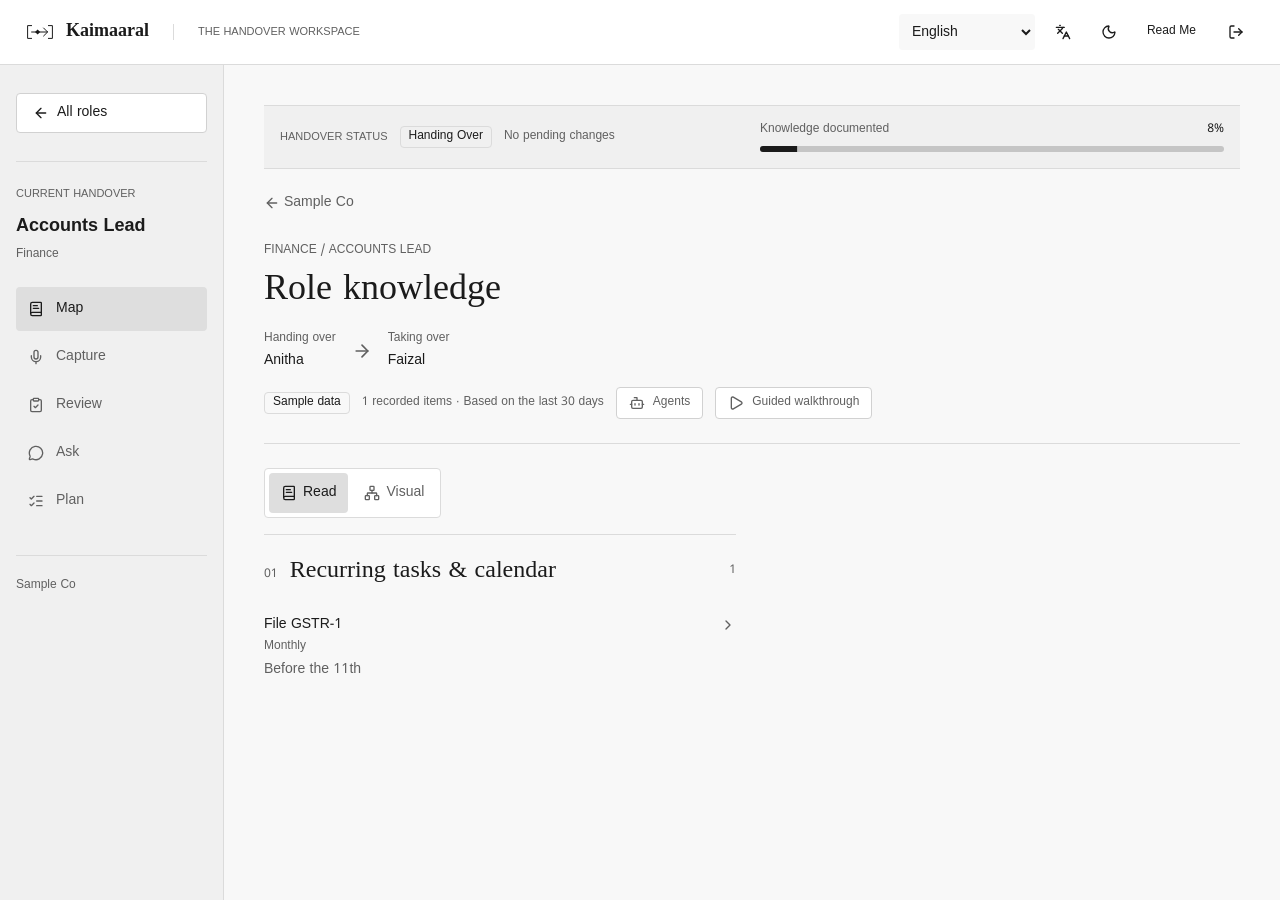
Role page tabs › Review tab opens the change review
Click the tab "Review".
click(112, 405)  # box [16,383,207,427]
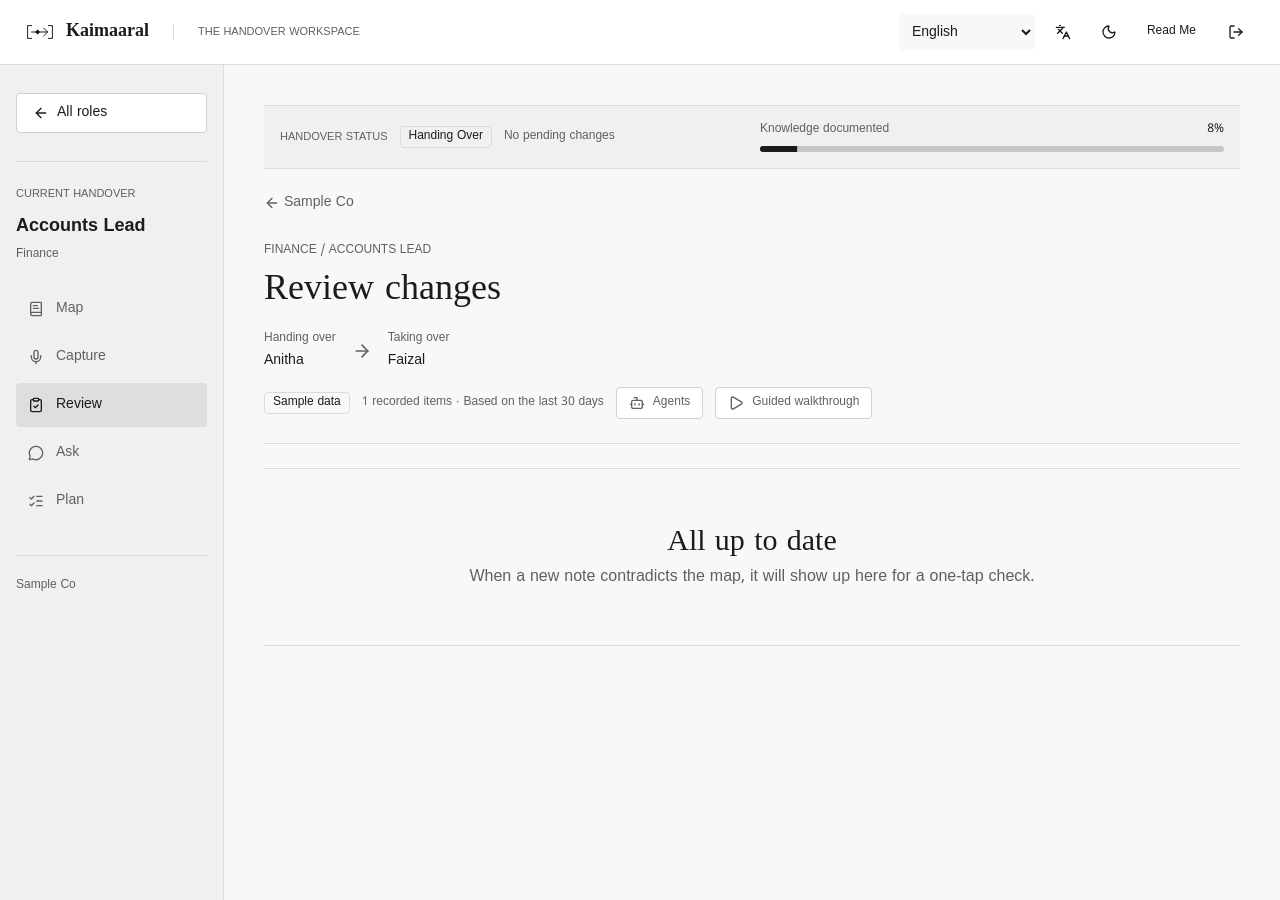
Result: the text "All up to date" is shown at [667,524,837,561]
